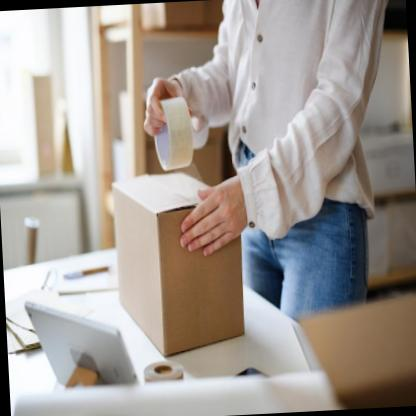box: (110, 164, 246, 359)
